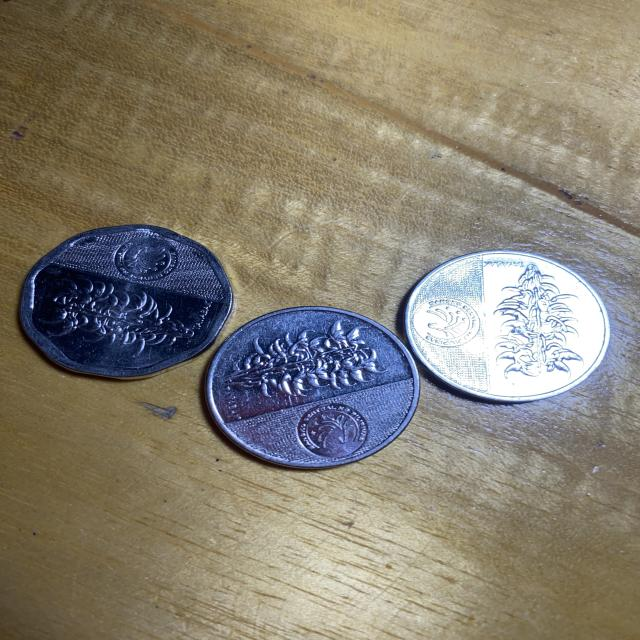5_New_Back: (218, 314, 404, 404), (488, 259, 592, 387)
